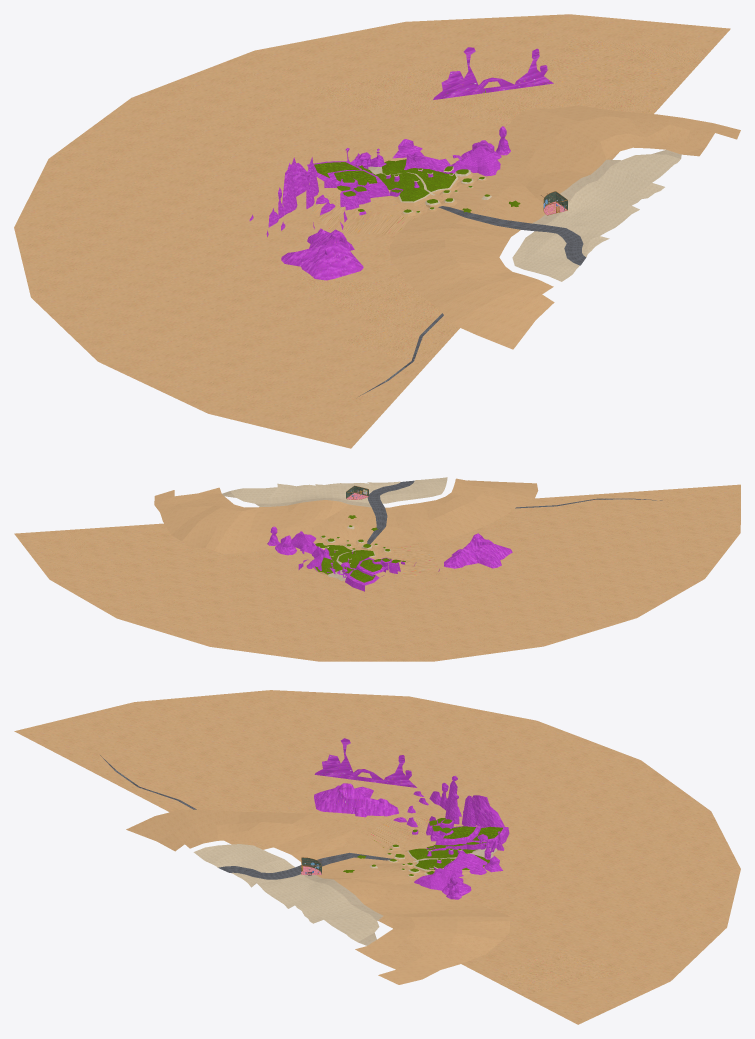
The model's file is casacalamardinhoo.glb.
3 renders of one model, top to bottom at view 1: azimuth 30°, elevation 25°; view 2: azimuth 150°, elevation 25°; view 3: azimuth 270°, elevation 25°, orthographic. The views are drawn at different scales.
Parts seen in each view (by area): view 1: Object_16, Object_27, Object_23, Object_24, Object_18, Object_22, Object_21, Object_26, Object_25, Object_28; view 2: Object_16, Object_27, Object_23, Object_24, Object_18, Object_22, Object_21, Object_25, Object_26, Object_28; view 3: Object_16, Object_27, Object_23, Object_24, Object_22, Object_18, Object_21, Object_28, Object_26, Object_25.
Boxes of the visible parts, bbox=[...] form: Object_16: bbox=[14, 14, 740, 448]; Object_27: bbox=[481, 154, 680, 281]; Object_23: bbox=[249, 47, 553, 280]; Object_24: bbox=[266, 139, 500, 236]; Object_18: bbox=[355, 159, 520, 212]; Object_22: bbox=[268, 148, 422, 230]; Object_21: bbox=[314, 162, 484, 212]; Object_26: bbox=[438, 206, 586, 265]; Object_25: bbox=[359, 206, 584, 396]; Object_28: bbox=[532, 149, 681, 224]; Object_16: bbox=[14, 478, 740, 661]; Object_27: bbox=[230, 477, 447, 529]; Object_23: bbox=[267, 526, 512, 568]; Object_24: bbox=[291, 531, 439, 576]; Object_18: bbox=[315, 515, 378, 574]; Object_22: bbox=[327, 557, 397, 591]; Object_21: bbox=[315, 535, 405, 582]; Object_25: bbox=[368, 481, 662, 544]; Object_26: bbox=[367, 480, 414, 544]; Object_28: bbox=[222, 491, 371, 507]; Object_16: bbox=[14, 690, 740, 1024]; Object_27: bbox=[193, 844, 379, 941]; Object_23: bbox=[314, 738, 471, 899]; Object_24: bbox=[393, 780, 504, 890]; Object_22: bbox=[419, 775, 509, 861]; Object_18: bbox=[343, 842, 489, 872]; Object_21: bbox=[387, 818, 502, 875]; Object_28: bbox=[304, 875, 383, 945]; Object_26: bbox=[218, 852, 392, 879]; Object_25: bbox=[100, 755, 390, 877].
Size of the model in its own units: 4080 by 373 by 3742.
35 materials, 35 textured.
